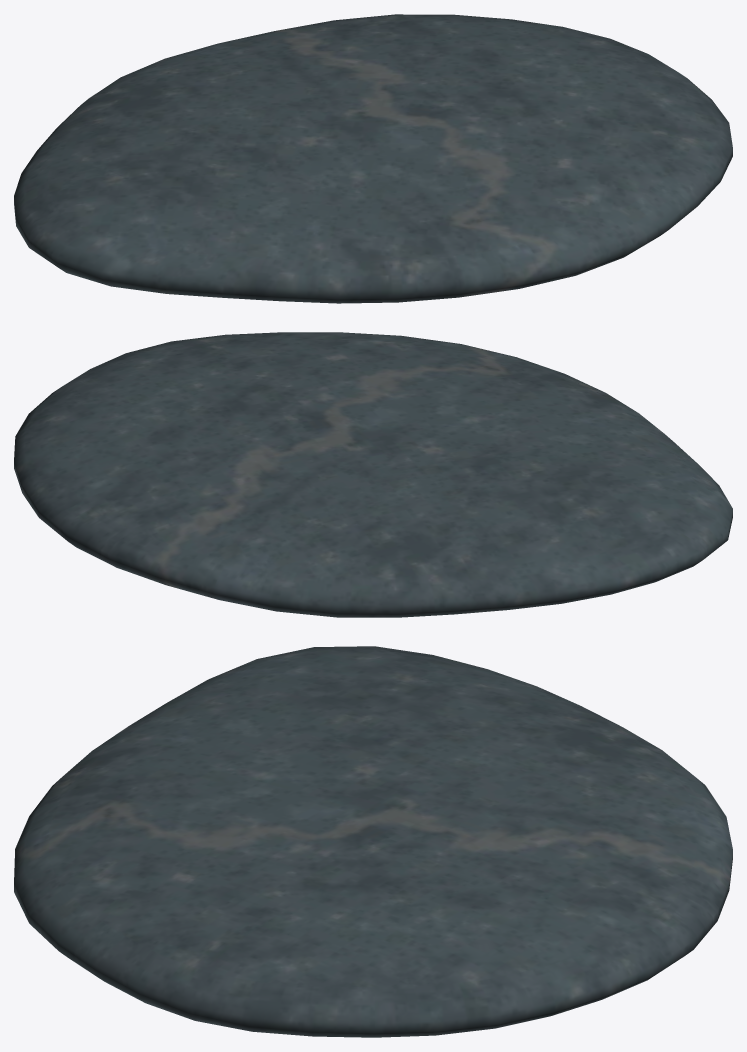
The model's file is standard_05.glb.
3 renders of one model, top to bottom at view 1: azimuth 30°, elevation 25°; view 2: azimuth 150°, elevation 25°; view 3: azimuth 270°, elevation 25°, orthographic. The views are drawn at different scales.
Parts seen in each view (by area): view 1: standard_05; view 2: standard_05; view 3: standard_05.
Boxes of the visible parts, x1,y1,x2,y2 form: standard_05: (14,14,732,303); standard_05: (14,332,732,617); standard_05: (14,646,732,1037).
Bounding box in the file's own units: 0.0776 × 0.0091 × 0.0634.
Materials: 1 (1 with a texture image).
